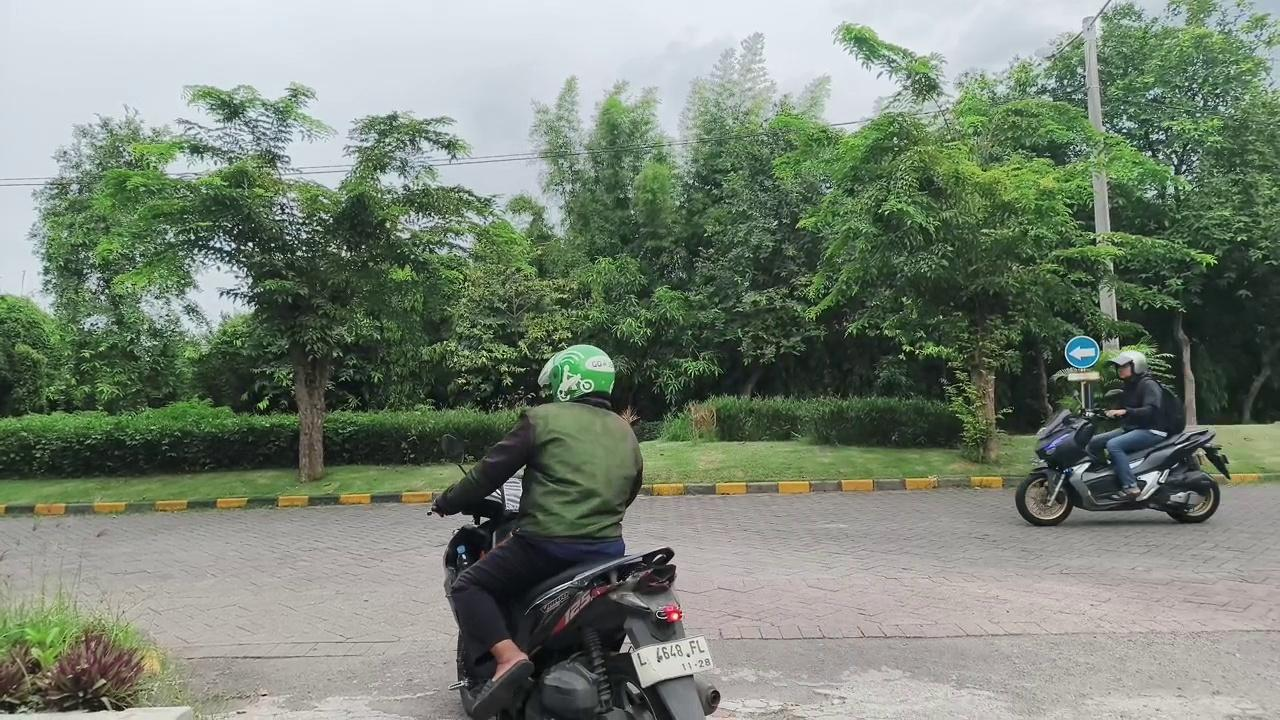Helmet: (433, 344, 642, 717), (1087, 351, 1167, 497)
Motor: (498, 548, 719, 719), (1015, 409, 1229, 525)
